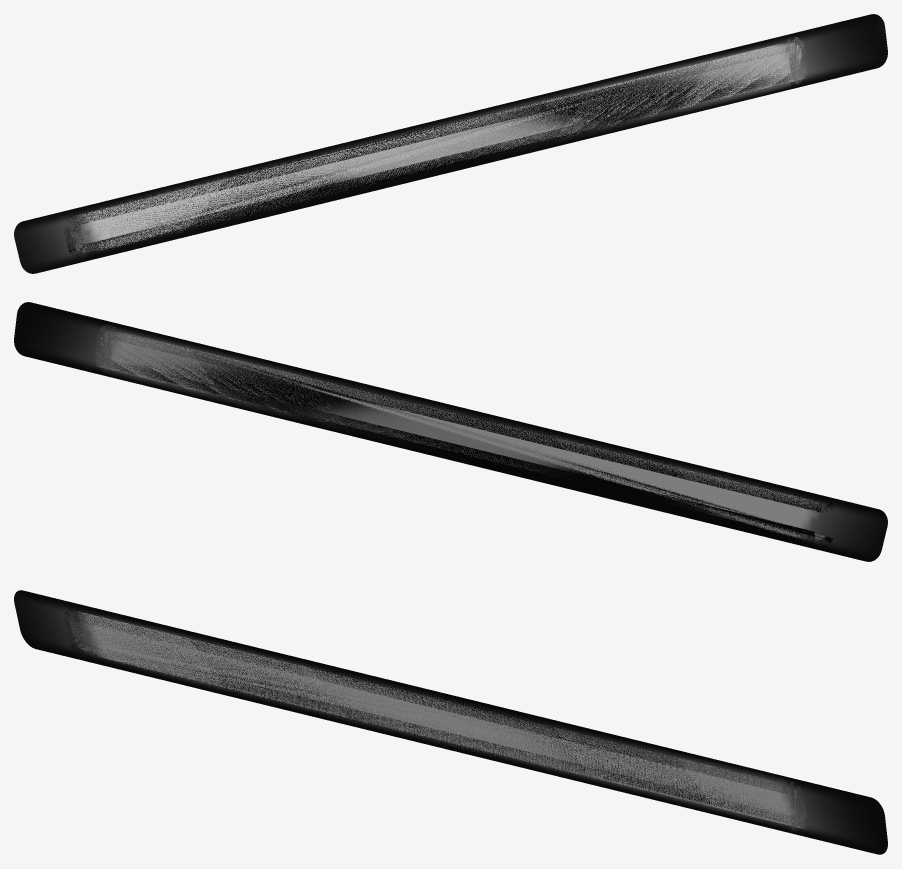
File: pref_SettlementPersonalPage.fbx
The picture shows the model from 3 angles, top to bottom: view 1: azimuth 30°, elevation 25°; view 2: azimuth 150°, elevation 25°; view 3: azimuth 330°, elevation 25°; orthographic projection.
Parts seen in each view (by area): view 1: glow, edge, scan; view 2: glow, edge, scan; view 3: glow, edge, scan.
Part boxes in pixels (<box>): glow: <box>14,14,887,273</box>; edge: <box>64,35,806,260</box>; scan: <box>69,43,802,252</box>; glow: <box>14,302,887,561</box>; edge: <box>95,323,835,548</box>; scan: <box>98,331,830,539</box>; glow: <box>14,590,887,854</box>; edge: <box>64,604,806,832</box>; scan: <box>69,612,803,825</box>.
Size of the model in its own units: 525 by 31.82 by 4.2e-07.
